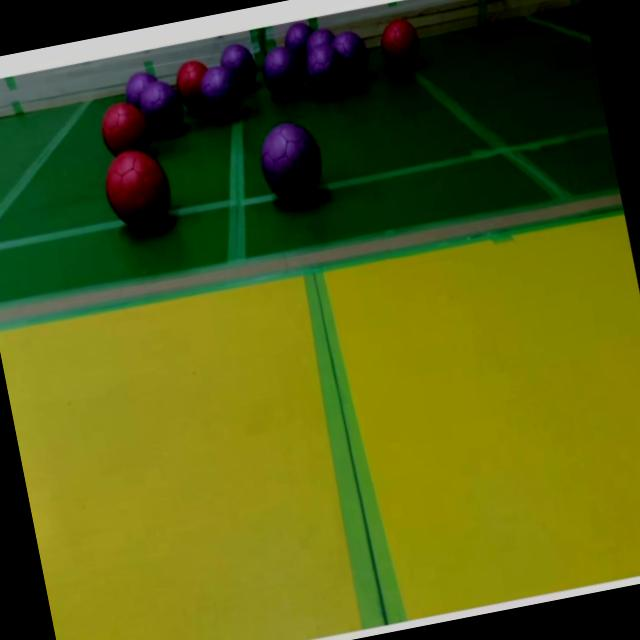purple_ball: (255, 120, 332, 212), (135, 78, 184, 138), (200, 62, 248, 121), (302, 44, 348, 98), (332, 29, 374, 88), (263, 44, 306, 98), (218, 40, 261, 87), (280, 22, 314, 56), (123, 72, 159, 100), (304, 26, 336, 49)
red_ball: (100, 146, 178, 237), (95, 100, 151, 158), (376, 19, 428, 77), (174, 60, 208, 115)
